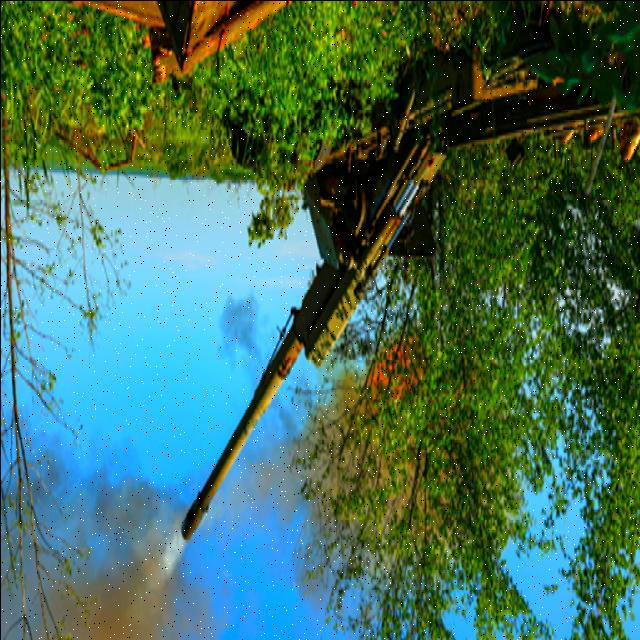ART: (179, 20, 640, 548)
